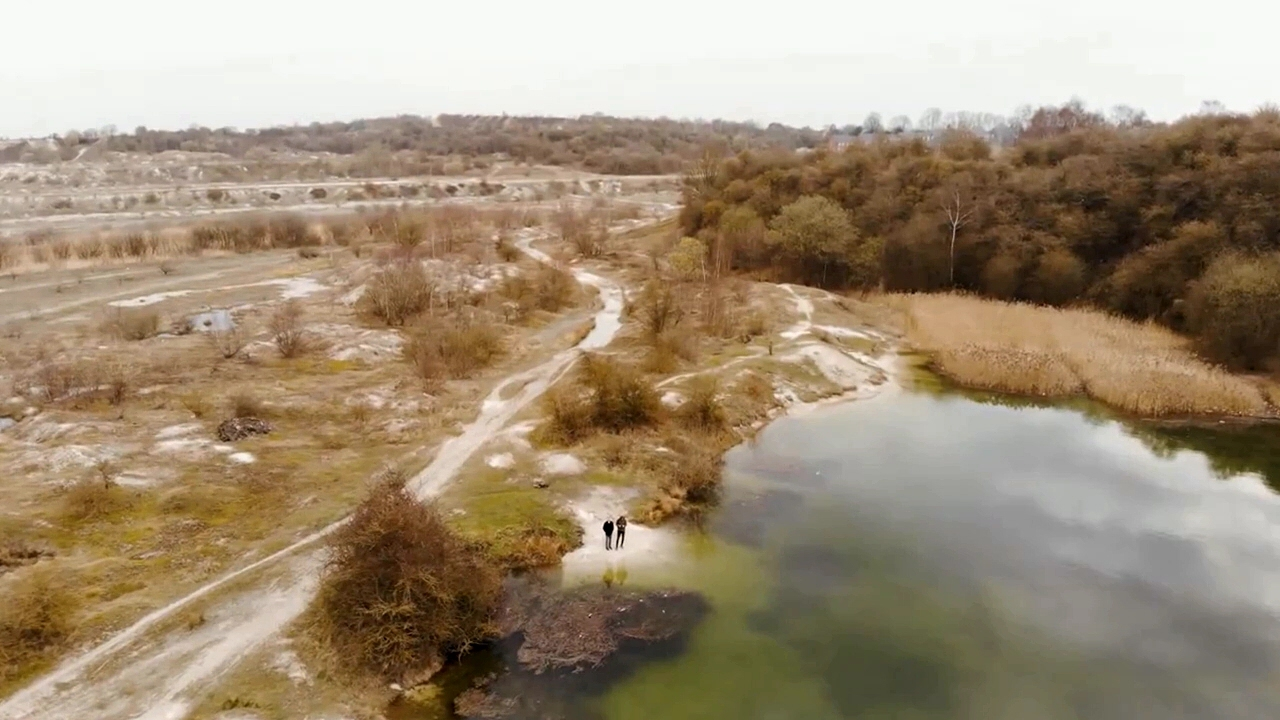insan: (615, 513, 631, 548), (601, 514, 615, 550)
